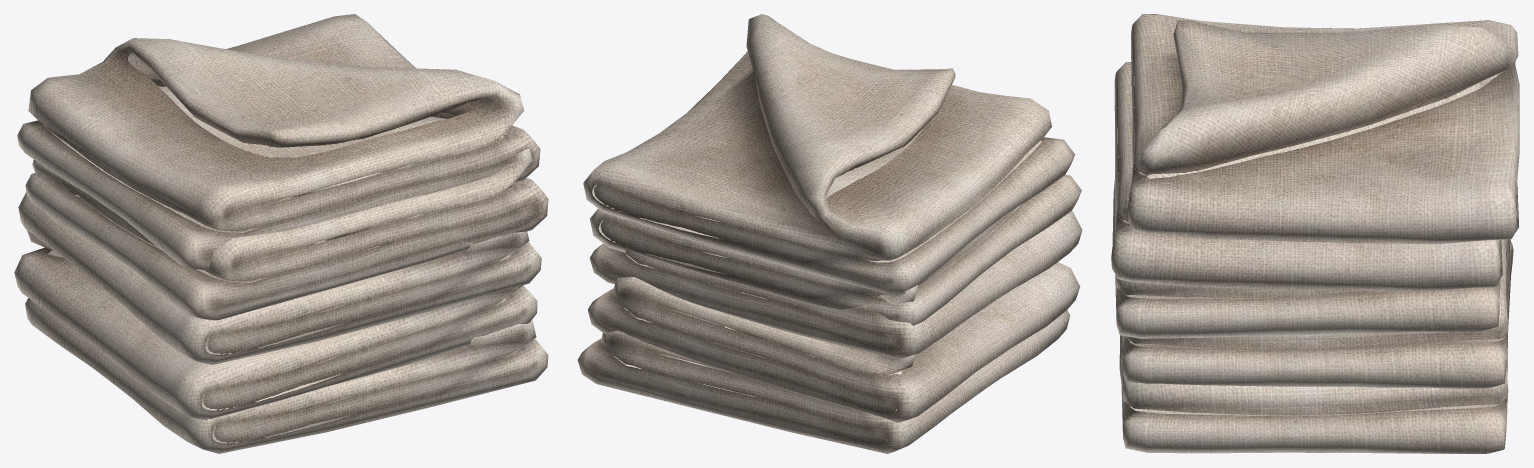
3 renders of one model, left to right at view 1: azimuth 30°, elevation 25°; view 2: azimuth 150°, elevation 25°; view 3: azimuth 270°, elevation 25°, orthographic. The views are drawn at different scales.
Visible parts, largest first — view 1: SM_Cloth_Coarse_Pile_LOD0; view 2: SM_Cloth_Coarse_Pile_LOD0; view 3: SM_Cloth_Coarse_Pile_LOD0.
Part boxes in pixels (x1,y1,x2,y2): SM_Cloth_Coarse_Pile_LOD0: (14, 14, 548, 453); SM_Cloth_Coarse_Pile_LOD0: (577, 14, 1082, 453); SM_Cloth_Coarse_Pile_LOD0: (1111, 14, 1519, 453).
Bounding box in the file's own units: 0.5741 × 0.4345 × 0.5086.
1 material, 1 textured.
